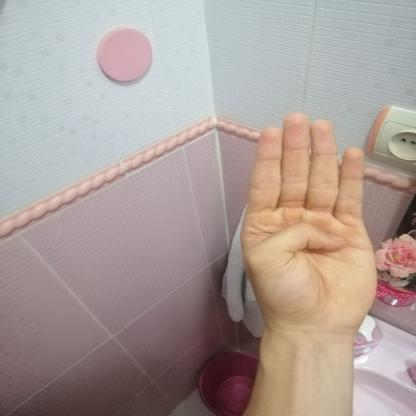KAAF: (231, 99, 395, 342)
